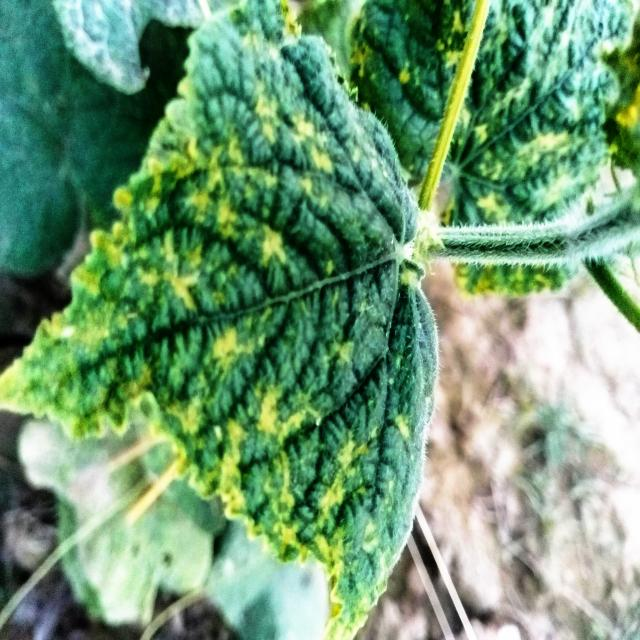Downy-Mildew: (0, 0, 442, 640), (348, 0, 636, 299)
